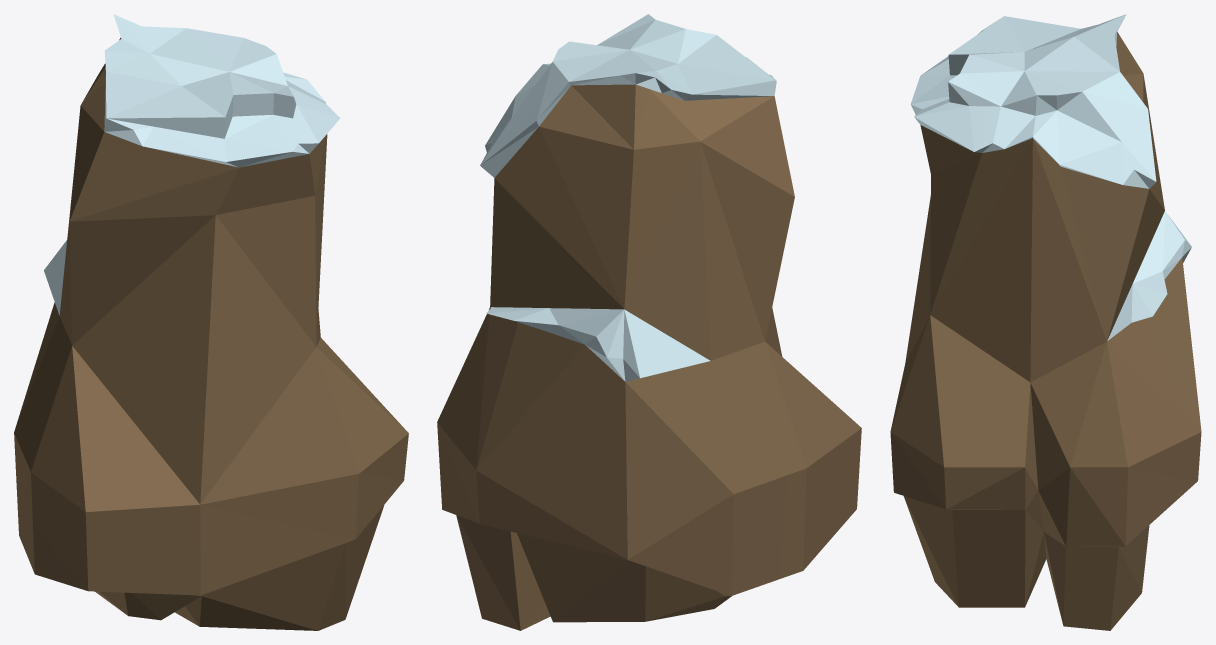
The model's file is SM_Env_Rock_04_Snow.gltf.
3 renders of one model, left to right at view 1: azimuth 30°, elevation 25°; view 2: azimuth 150°, elevation 25°; view 3: azimuth 270°, elevation 25°, orthographic. The views are drawn at different scales.
Visible parts, largest first — view 1: SM_Env_Rock_04_Snow; view 2: SM_Env_Rock_04_Snow; view 3: SM_Env_Rock_04_Snow.
Boxes of the visible parts, x1,y1,x2,y2 form: SM_Env_Rock_04_Snow: (14, 14, 408, 630); SM_Env_Rock_04_Snow: (437, 14, 861, 630); SM_Env_Rock_04_Snow: (890, 14, 1201, 630).
Bounding box in the file's own units: 1.21 × 2.1 × 1.09.
1 material, 1 textured.
